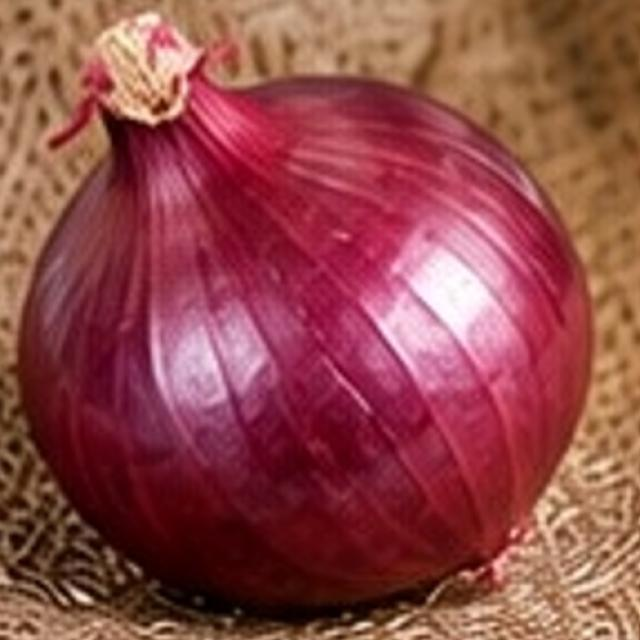healthy: (21, 13, 590, 607)
